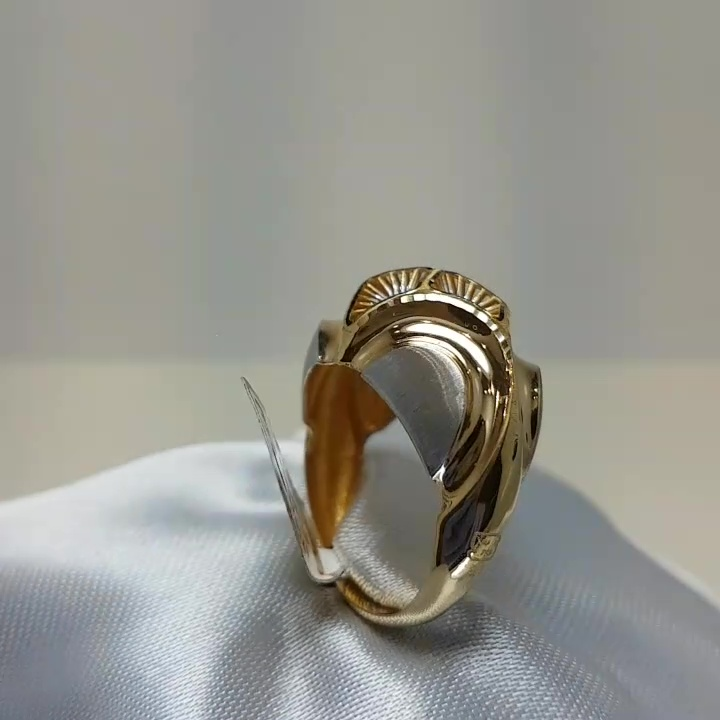Ring 2: (272, 226, 563, 661)
